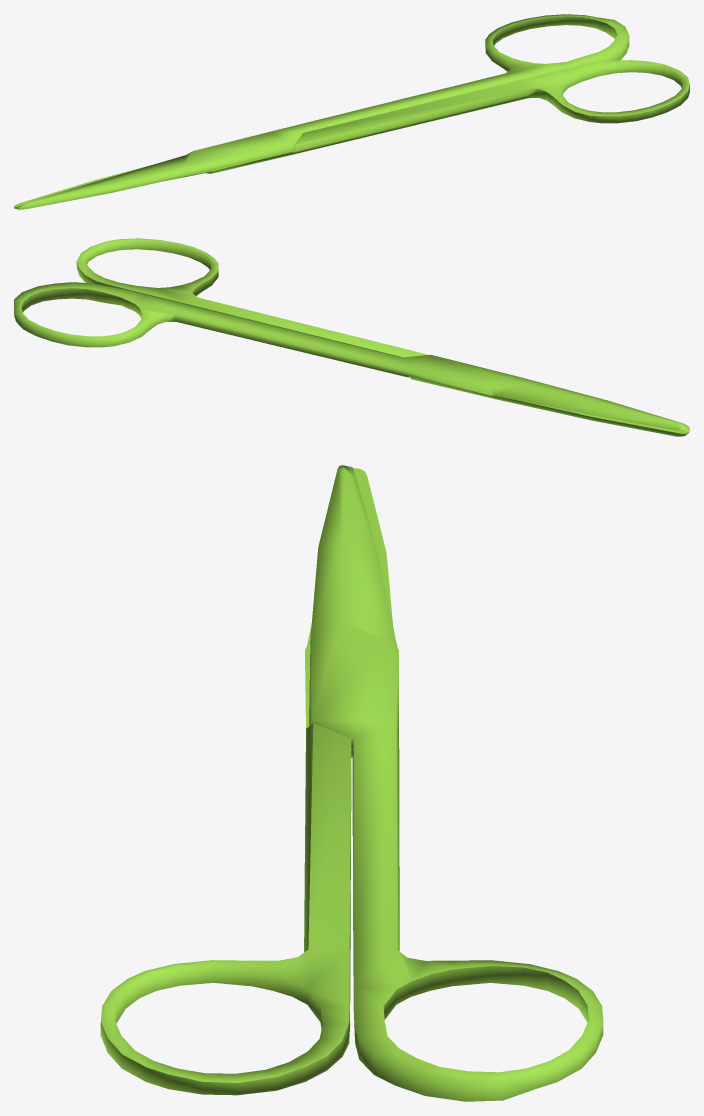
The model's file is SM_Morgue_Scissors_7.FBX.
3 renders of one model, top to bottom at view 1: azimuth 30°, elevation 25°; view 2: azimuth 150°, elevation 25°; view 3: azimuth 270°, elevation 25°, orthographic. The views are drawn at different scales.
Visible parts, largest first — view 1: Morgue_Scissors_7_element_1, Morgue_Scissors_7_element_2; view 2: Morgue_Scissors_7_element_1, Morgue_Scissors_7_element_2; view 3: Morgue_Scissors_7_element_1, Morgue_Scissors_7_element_2.
Boxes of the visible parts, x1,y1,x2,y2 form: Morgue_Scissors_7_element_1: [15, 14, 629, 209]; Morgue_Scissors_7_element_2: [14, 60, 689, 208]; Morgue_Scissors_7_element_1: [14, 282, 689, 432]; Morgue_Scissors_7_element_2: [76, 238, 688, 436]; Morgue_Scissors_7_element_1: [309, 465, 603, 1101]; Morgue_Scissors_7_element_2: [100, 468, 393, 1095].
Size of the model in its own units: 18.48 by 0.2946 by 6.3.
